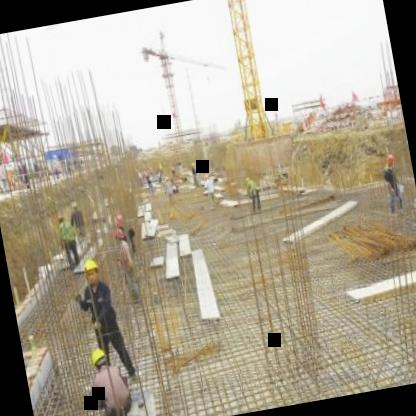helmet: (88, 344, 112, 375), (80, 256, 101, 286)
